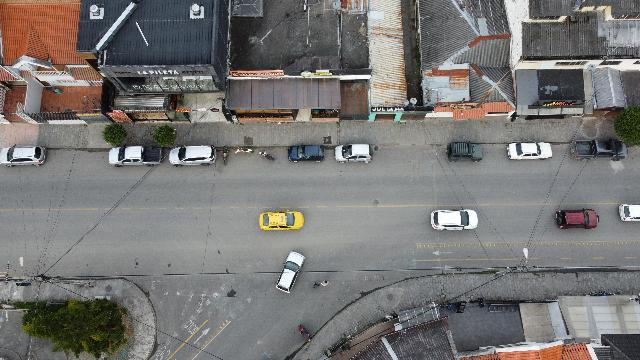Vehiculo: (570, 140, 628, 160), (276, 252, 304, 292), (108, 146, 162, 166), (0, 145, 46, 167), (430, 210, 478, 231), (169, 146, 217, 166), (260, 210, 304, 230), (555, 208, 599, 228), (506, 142, 552, 160), (334, 144, 372, 164), (446, 142, 482, 162), (288, 145, 324, 163), (618, 203, 640, 221)
